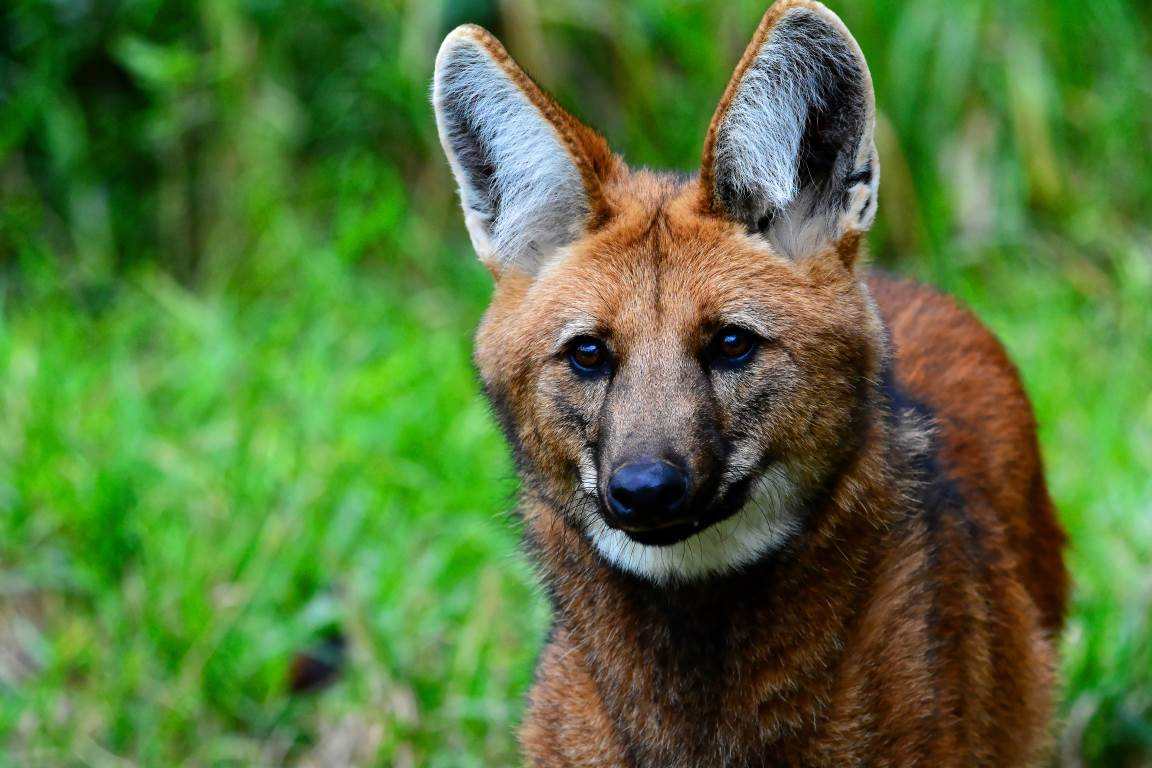LoboGuara: (385, 4, 1092, 748)
